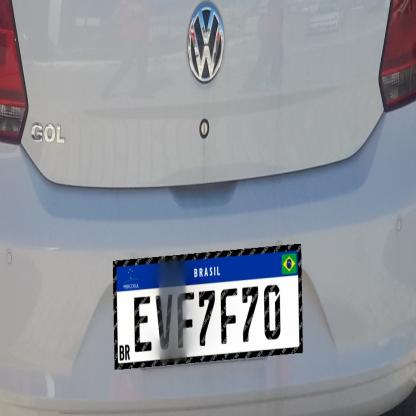PlacaM: (113, 244, 303, 370)
